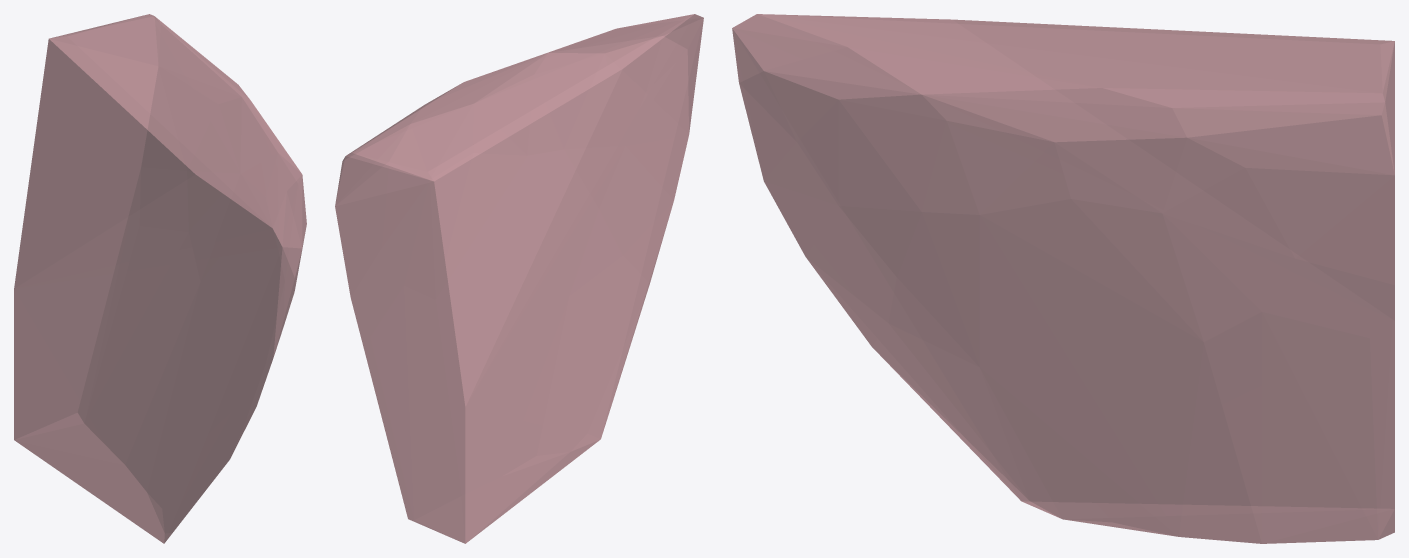
3 renders of one model, left to right at view 1: azimuth 30°, elevation 25°; view 2: azimuth 150°, elevation 25°; view 3: azimuth 270°, elevation 25°, orthographic. The views are drawn at different scales.
Visible parts, largest first — view 1: Shape_IndexedFaceSet.004_Shape_IndexedFaceSet.5906; view 2: Shape_IndexedFaceSet.004_Shape_IndexedFaceSet.5906; view 3: Shape_IndexedFaceSet.004_Shape_IndexedFaceSet.5906.
Boxes of the visible parts, x1,y1,x2,y2 form: Shape_IndexedFaceSet.004_Shape_IndexedFaceSet.5906: (14, 14, 306, 543); Shape_IndexedFaceSet.004_Shape_IndexedFaceSet.5906: (335, 14, 703, 543); Shape_IndexedFaceSet.004_Shape_IndexedFaceSet.5906: (732, 14, 1394, 543).
Size of the model in its own units: 0.2373 by 0.6262 by 0.7579.
